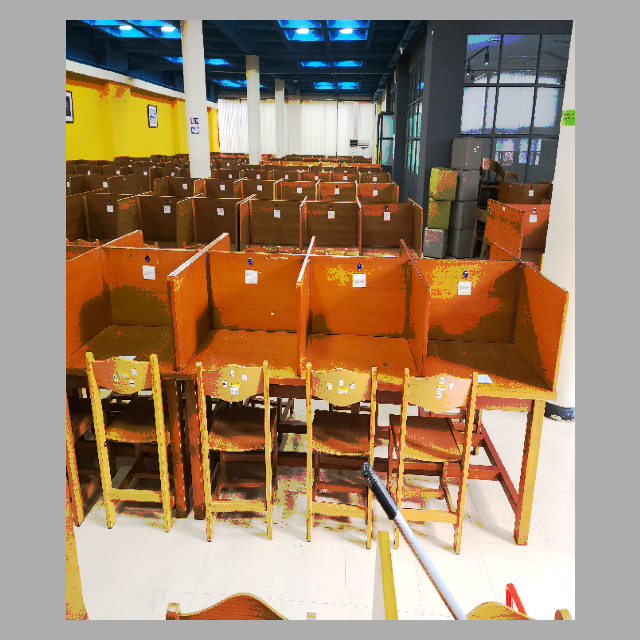empty: (431, 261, 561, 451), (178, 259, 299, 448), (303, 257, 423, 446)
